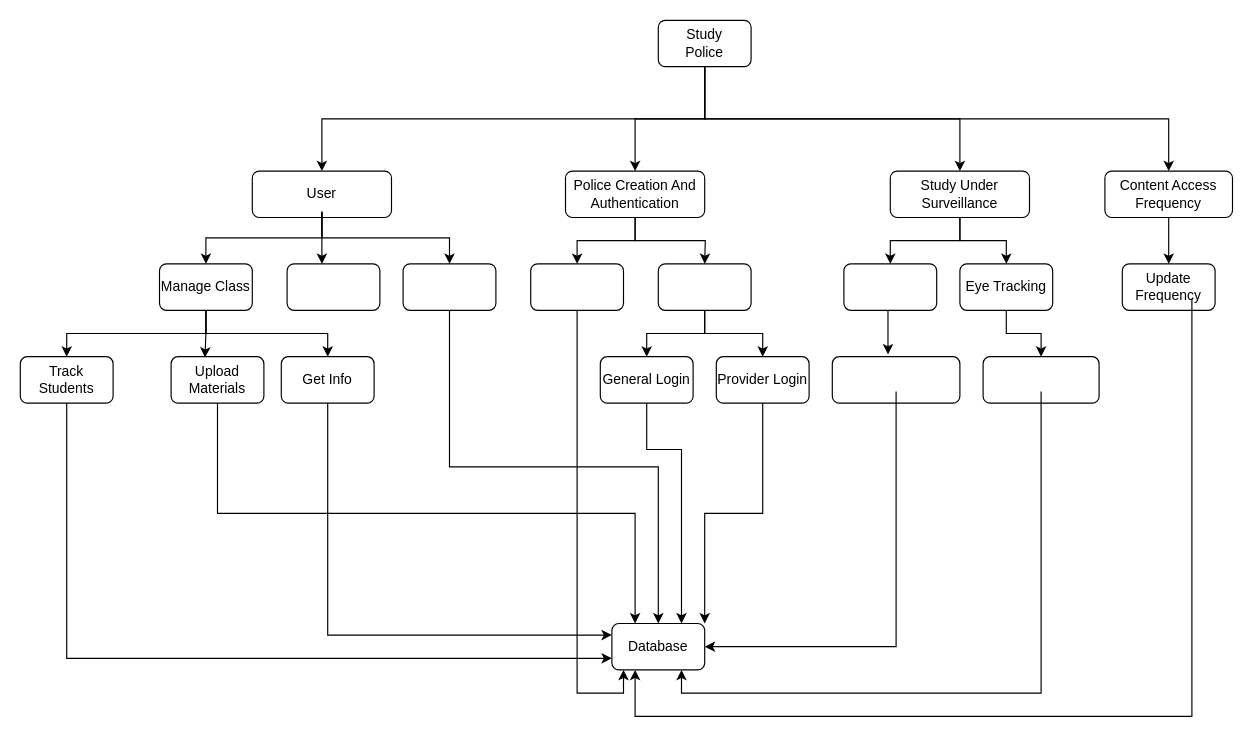
This 1253x746 diagram has some shape labels left out. The box of each missing label's shape, as (x1, y1, x2, y2) in pixels:
Create Class: (286, 263, 380, 310)
Create Profile: (530, 263, 624, 310)
Eye Tracking API: (982, 356, 1099, 403)
Facial Recognition: (843, 263, 937, 310)
Facial Recognition API: (831, 356, 960, 403)
Join Class: (402, 263, 496, 310)
Login: (657, 263, 751, 310)
